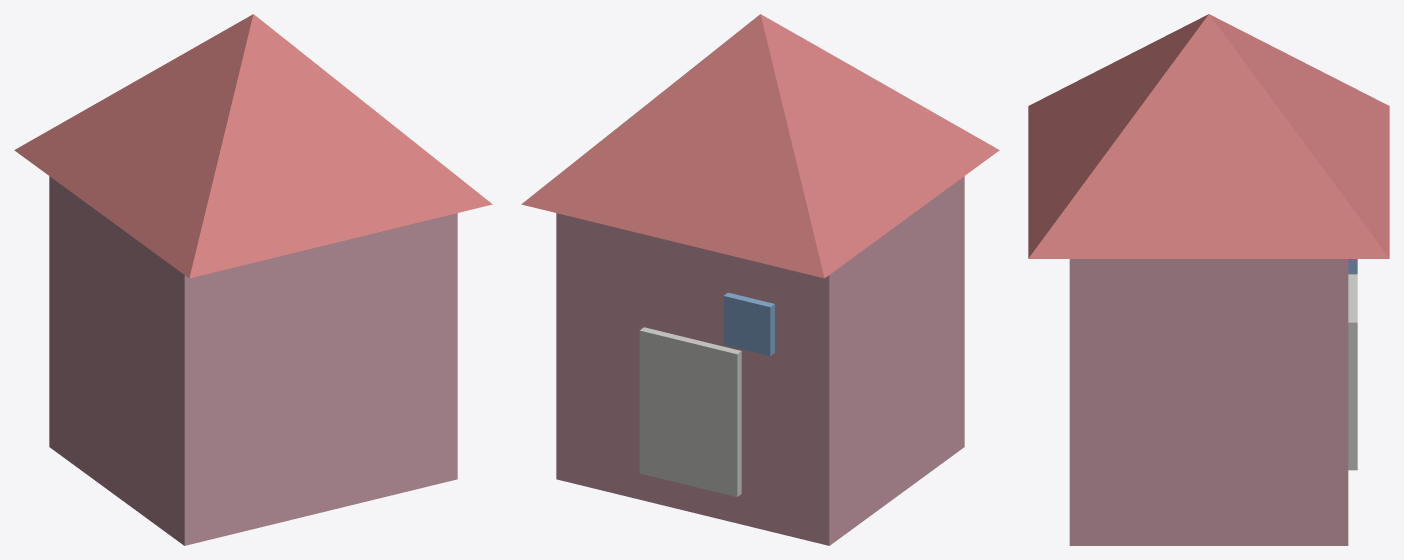
The model's file is kid_casinha.glb.
The picture shows the model from 3 angles, left to right: view 1: azimuth 30°, elevation 25°; view 2: azimuth 150°, elevation 25°; view 3: azimuth 270°, elevation 25°; orthographic projection. The views are drawn at different scales.
Visible parts, largest first — view 1: KID_CASINHA_v01; view 2: KID_CASINHA_v01; view 3: KID_CASINHA_v01.
Boxes of the visible parts, bbox=[...] form: KID_CASINHA_v01: bbox=[14, 14, 492, 545]; KID_CASINHA_v01: bbox=[521, 14, 999, 545]; KID_CASINHA_v01: bbox=[1028, 14, 1389, 545].
Size of the model in its own units: 0.7778 by 1.1 by 0.7778.
